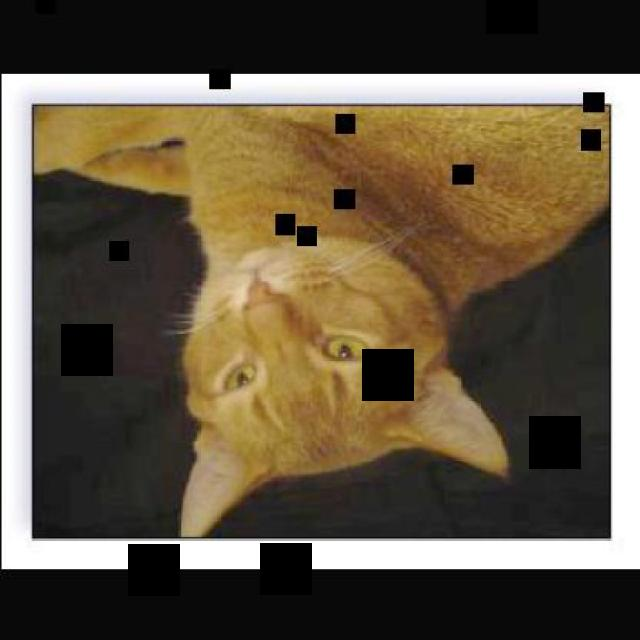unauthorized: (32, 103, 610, 537)
